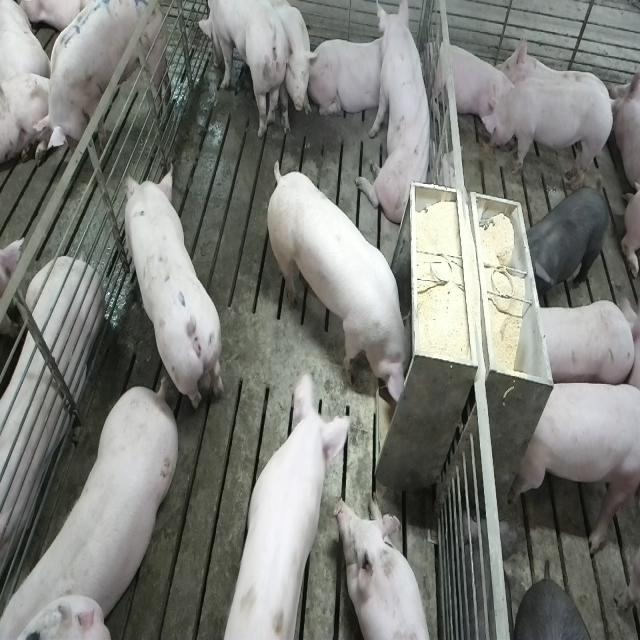Feeding: (210, 363, 350, 634), (271, 162, 420, 410)
Sitting: (361, 4, 436, 231), (197, 2, 315, 143)
Standing: (5, 375, 184, 635), (124, 165, 222, 411), (512, 381, 639, 554), (40, 0, 174, 148), (482, 80, 618, 186), (523, 182, 611, 295), (528, 298, 634, 388)
Sternal_lying: (0, 247, 101, 583), (337, 496, 437, 640), (427, 35, 513, 133), (310, 34, 390, 121)
